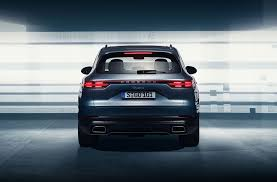car: (74, 42, 204, 148)
